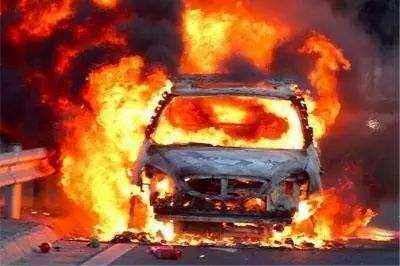fire: (35, 5, 387, 249)
